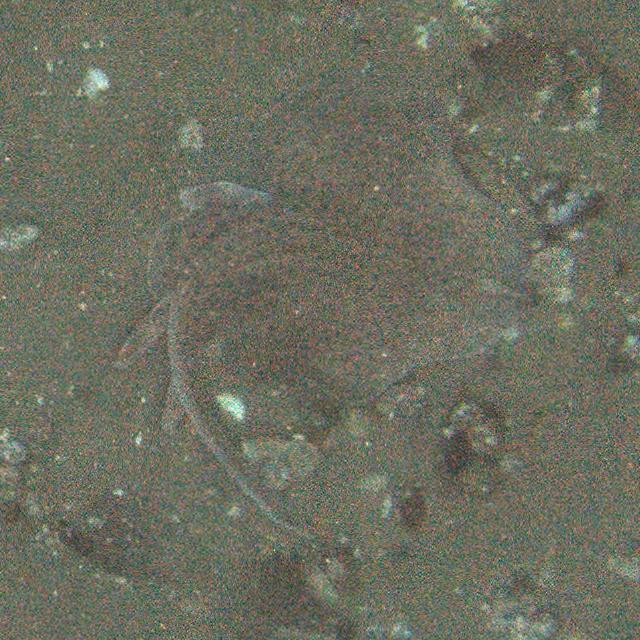skate: (129, 75, 516, 539)
